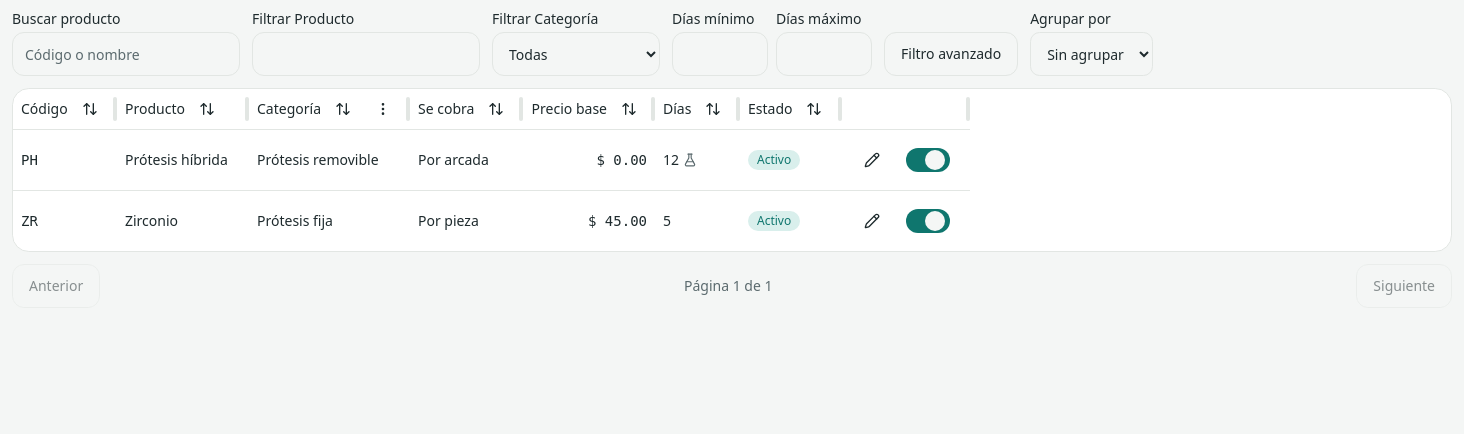
ProductsTable › agrupa por categoría con conteo por grupo
The width and height of the screenshot is (1464, 434).
Select "Categoría" in the dropdown labelled "Agrupar por" at (1092, 54), box left=1030, top=32, right=1153, bottom=76
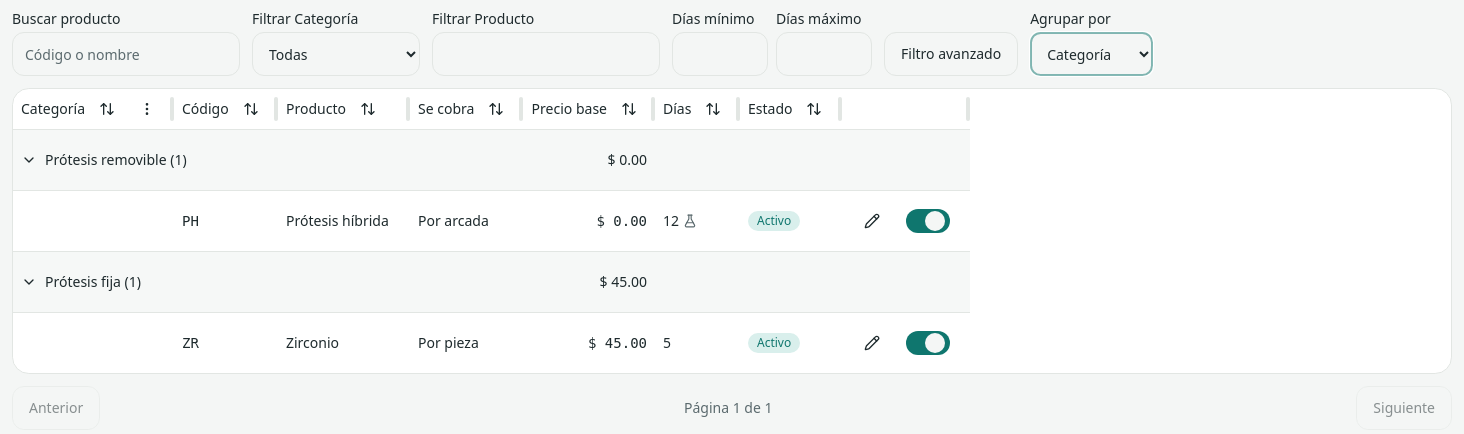
expect the row "Prótesis fija (1) $ 45.00" is shown: met, box left=13, top=251, right=970, bottom=312
